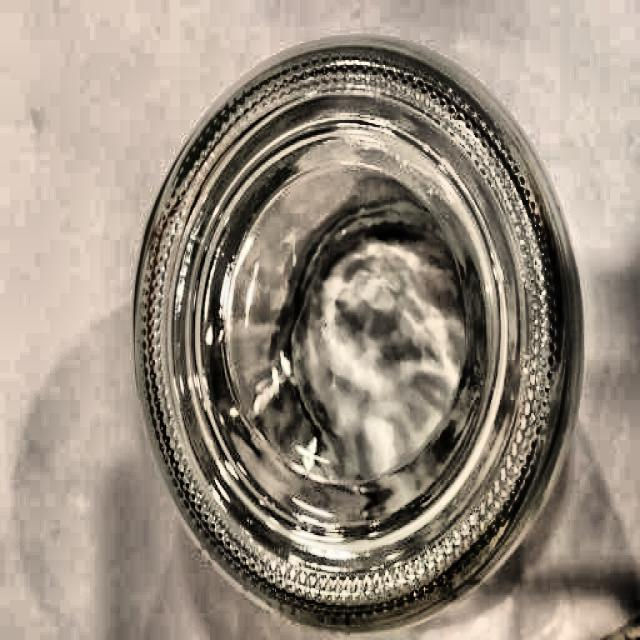glass: (135, 24, 580, 640)
